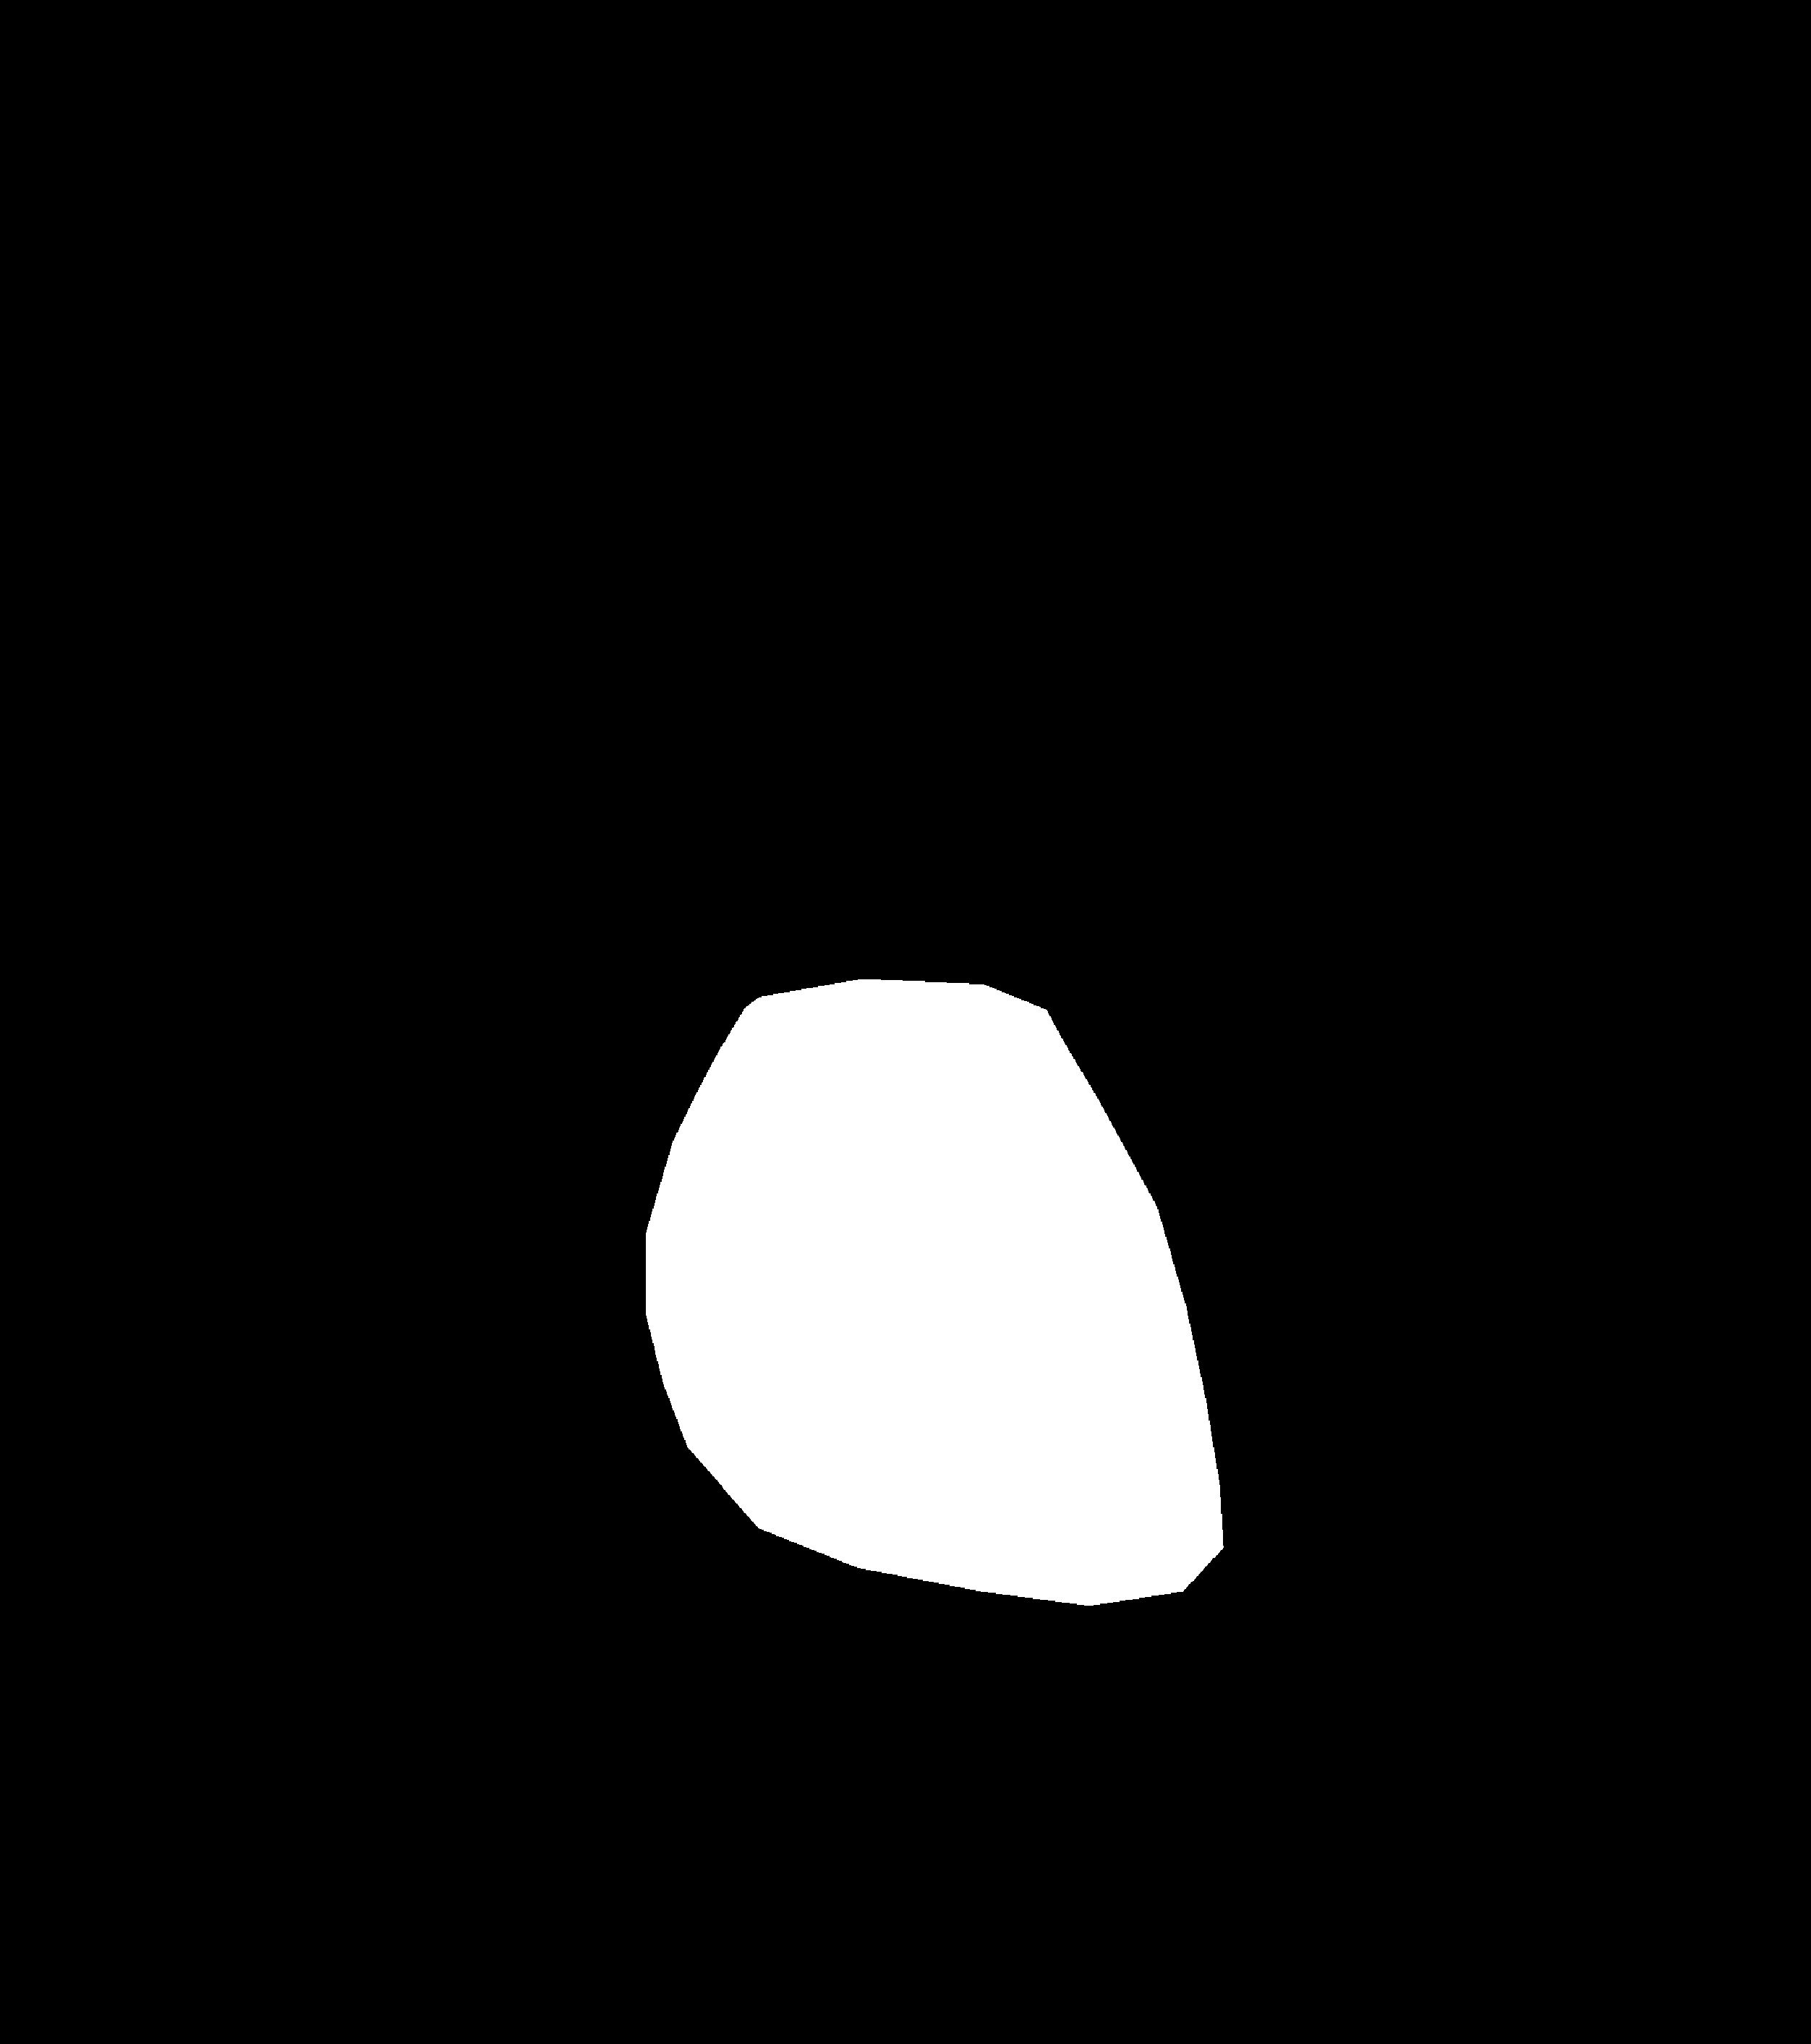heart: (645, 1021, 1189, 1565)
left_lung: (236, 215, 857, 1495)
right_lung: (1000, 206, 1631, 1829)
